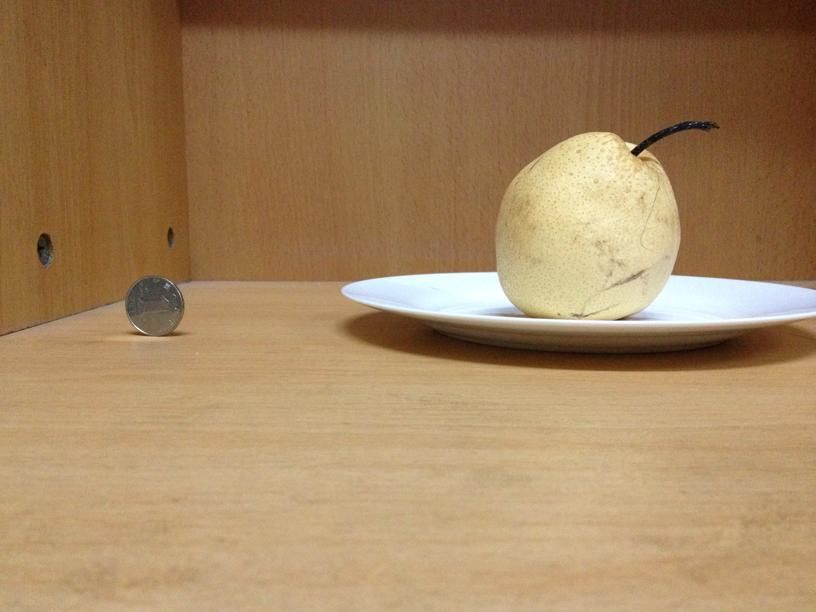coin: (122, 272, 187, 337)
pear: (488, 116, 681, 320)
